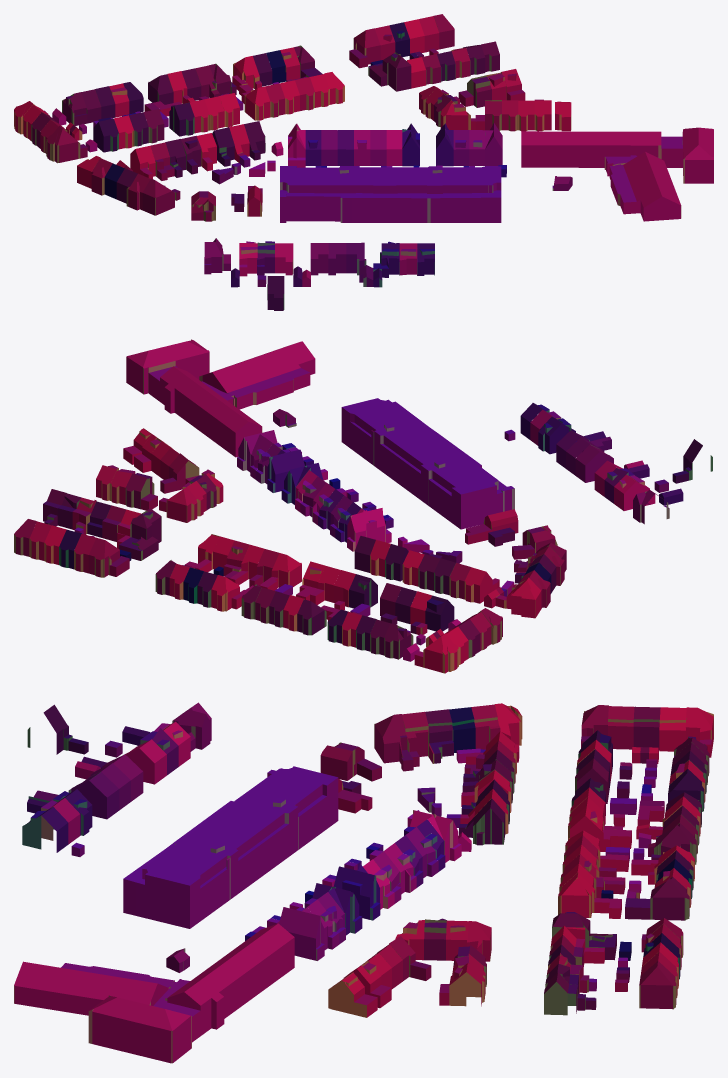
File: buildings_3_5.glb
The picture shows the model from 3 angles, top to bottom: view 1: azimuth 30°, elevation 25°; view 2: azimuth 150°, elevation 25°; view 3: azimuth 270°, elevation 25°; orthographic projection. The views are drawn at different scales.
Parts seen in each view (by area): view 1: buildings_3_5; view 2: buildings_3_5; view 3: buildings_3_5.
Boxes of the visible parts, x1=… form: buildings_3_5: x1=14, y1=14, x2=713, y2=310; buildings_3_5: x1=14, y1=339, x2=712, y2=673; buildings_3_5: x1=14, y1=702, x2=713, y2=1063.
Bounding box in the file's own units: 204 × 13.71 × 182.
